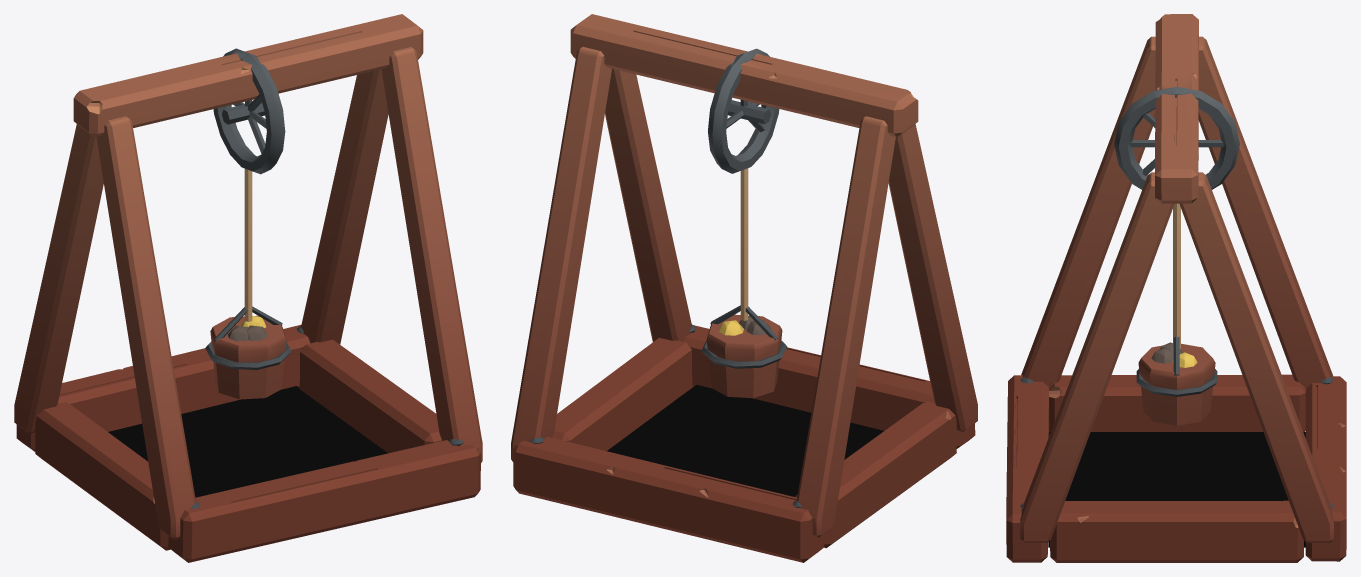
The model's file is mine_shaft.glb.
The picture shows the model from 3 angles, left to right: view 1: azimuth 30°, elevation 25°; view 2: azimuth 150°, elevation 25°; view 3: azimuth 270°, elevation 25°; orthographic projection. The views are drawn at different scales.
Parts seen in each view (by area): view 1: mine_shaft; view 2: mine_shaft; view 3: mine_shaft.
Boxes of the visible parts, x1,y1,x2,y2 form: mine_shaft: (14,14,482,562); mine_shaft: (511,14,977,562); mine_shaft: (1006,14,1346,562).
Bounding box in the file's own units: 2.93 × 3.5 × 2.65.
1 material, 1 textured.
